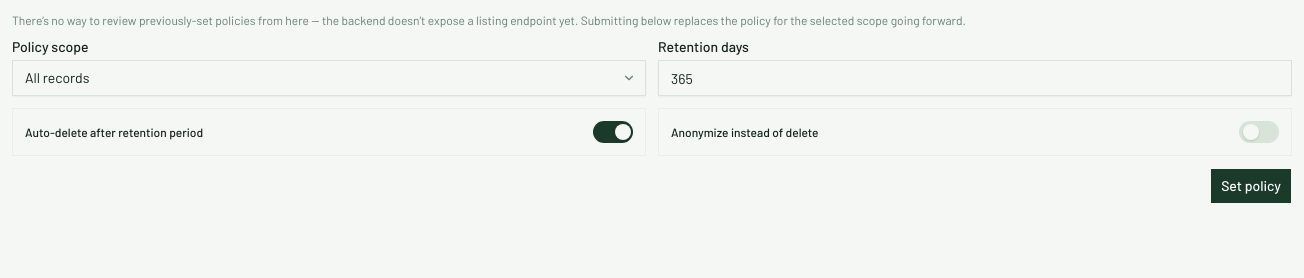
Test: RetentionPolicyForm › hides scope-specific fields for a GLOBAL policy and submits without them
Click the button "Set policy" at (1251, 186), box top-left (1210, 168), bottom-right (1292, 204)
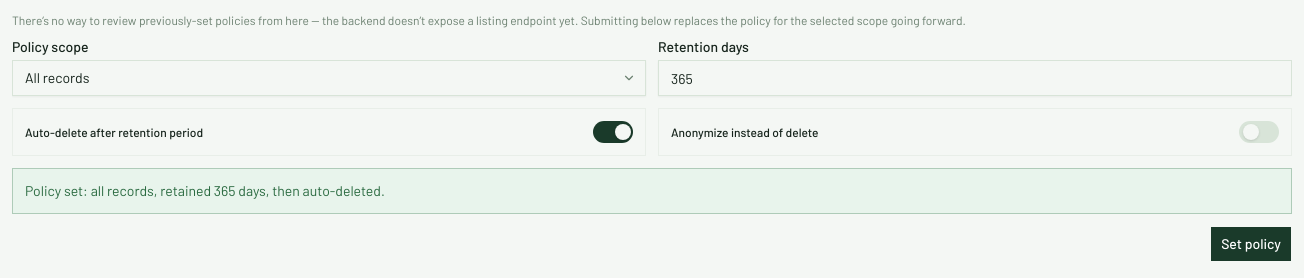
Now the text "Policy set: all records" is shown, box top-left (25, 182), bottom-right (385, 199)
